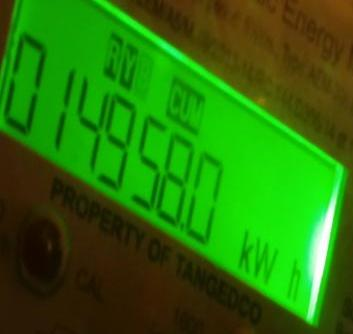.: (239, 225, 314, 304)
0: (175, 219, 187, 237)
1: (2, 28, 50, 140), (188, 145, 227, 243)
2: (54, 68, 77, 155)
5: (66, 74, 113, 169)
6: (133, 113, 171, 206)
9: (155, 132, 200, 230)
:: (94, 95, 141, 188)
